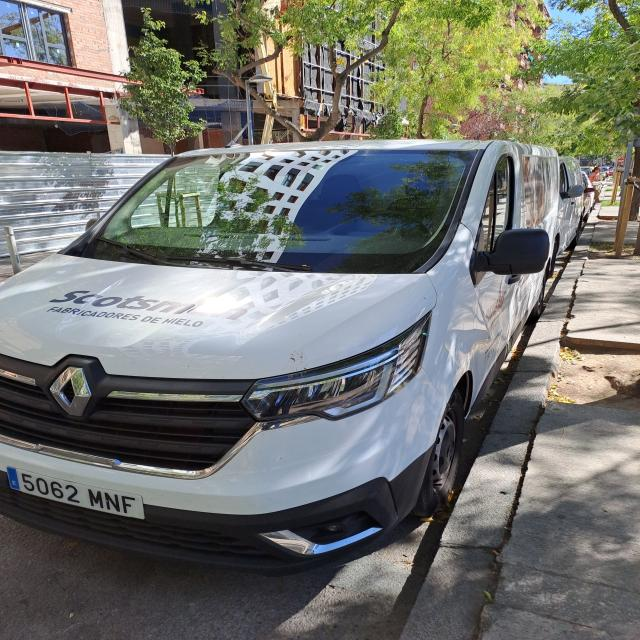license_plate-34Td: (6, 466, 144, 519)
